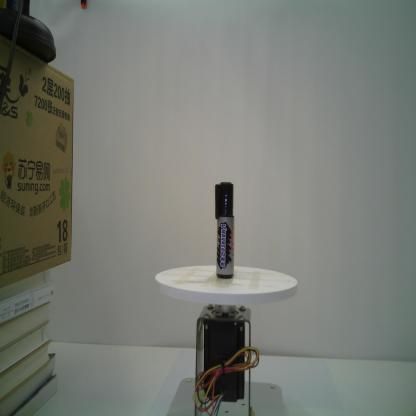Stationery: (214, 181, 236, 279)
